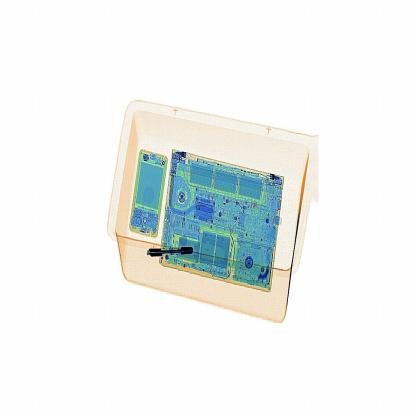knife: (142, 245, 197, 261)
